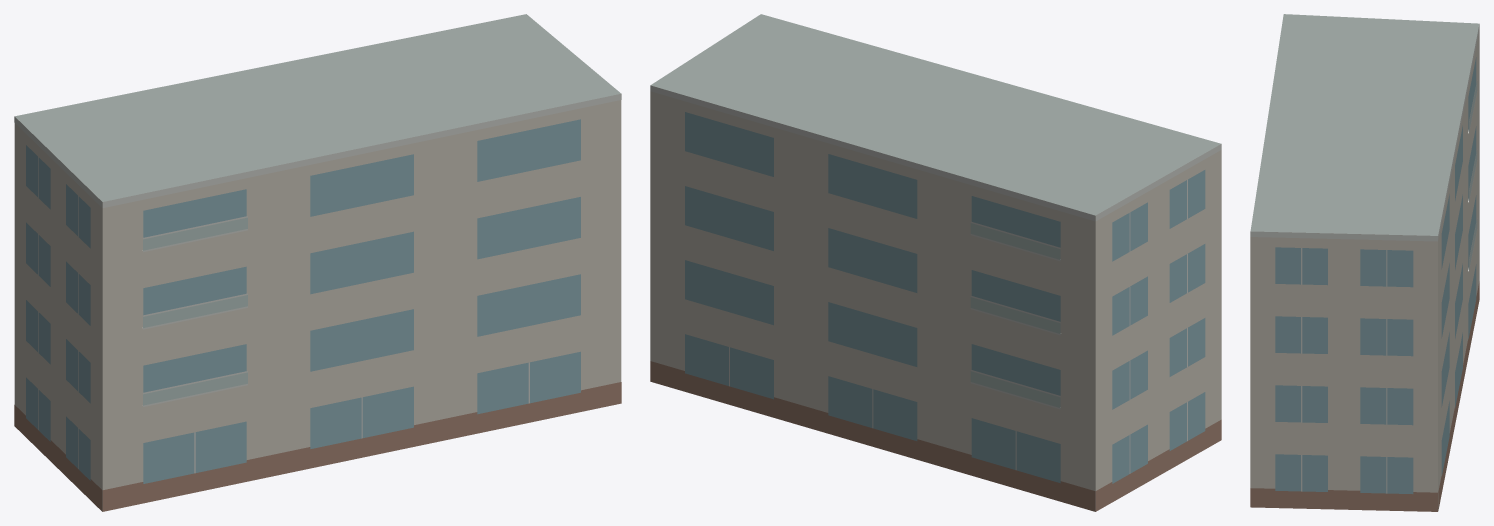
The model's file is survey-upis-32767355.glb.
3 renders of one model, left to right at view 1: azimuth 30°, elevation 25°; view 2: azimuth 150°, elevation 25°; view 3: azimuth 270°, elevation 25°, orthographic. The views are drawn at different scales.
Visible parts, largest first — view 1: survey-upis-32767355.tmp; view 2: survey-upis-32767355.tmp; view 3: survey-upis-32767355.tmp.
Boxes of the visible parts, left/top/right/bottom form: survey-upis-32767355.tmp: left=14, top=14, right=621, bottom=511; survey-upis-32767355.tmp: left=650, top=14, right=1221, bottom=511; survey-upis-32767355.tmp: left=1250, top=14, right=1479, bottom=511.
Bounding box in the file's own units: 21.06 × 12.2 × 9.19.
